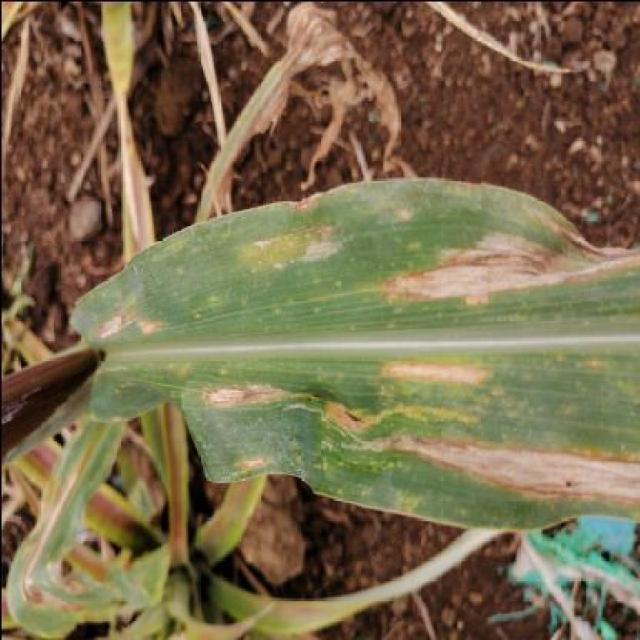Corn_Leaf_Blight: (67, 175, 640, 530)
